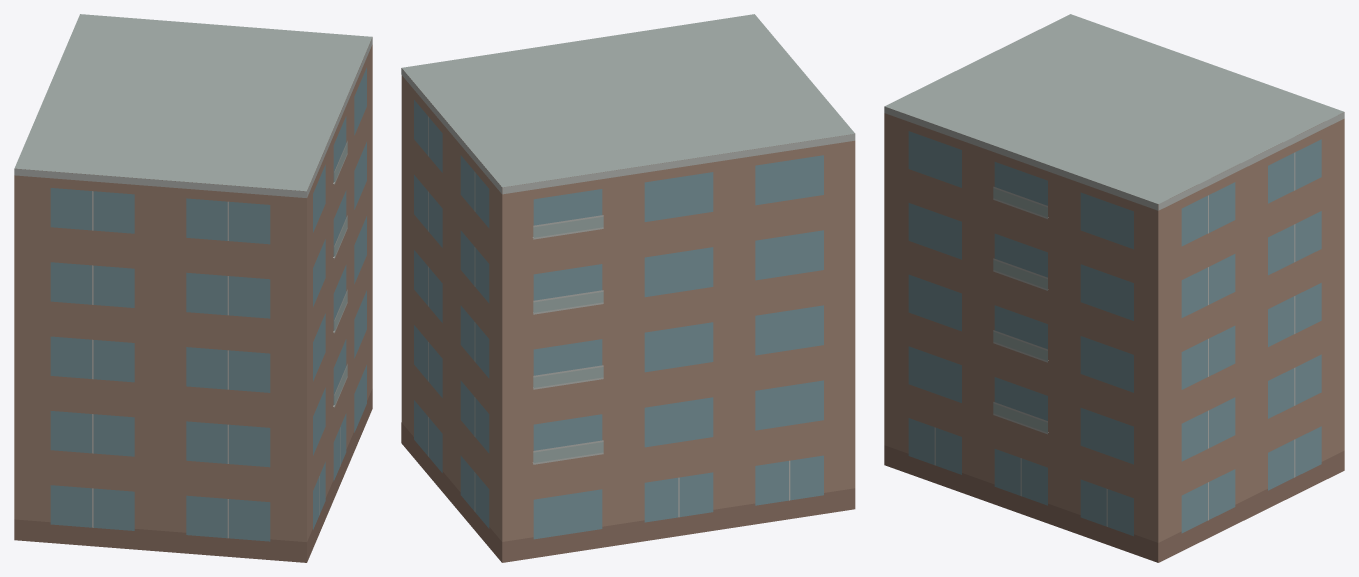
The model's file is survey-upis-33040592.glb.
The picture shows the model from 3 angles, left to right: view 1: azimuth 30°, elevation 25°; view 2: azimuth 150°, elevation 25°; view 3: azimuth 270°, elevation 25°; orthographic projection. The views are drawn at different scales.
Visible parts, largest first — view 1: survey-upis-33040592.tmp; view 2: survey-upis-33040592.tmp; view 3: survey-upis-33040592.tmp.
Part boxes in pixels (x1=…): survey-upis-33040592.tmp: x1=14, y1=14, x2=372, y2=562; survey-upis-33040592.tmp: x1=401, y1=14, x2=855, y2=562; survey-upis-33040592.tmp: x1=884, y1=14, x2=1344, y2=562.
Size of the model in its own units: 15.02 by 13.2 by 15.36.
